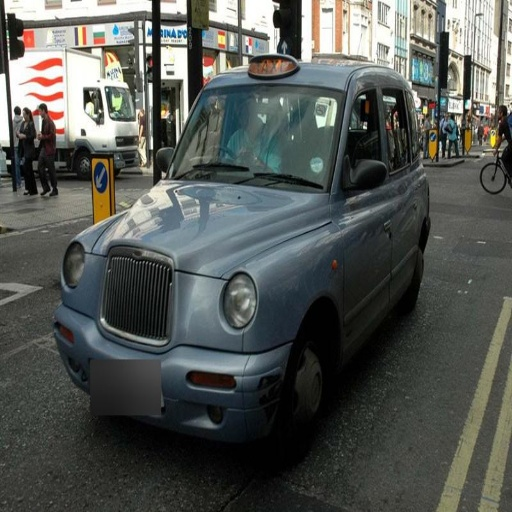front_bumper: (61, 257, 297, 441)
front_glass: (174, 57, 348, 188)
front_left_door: (343, 70, 399, 324)
